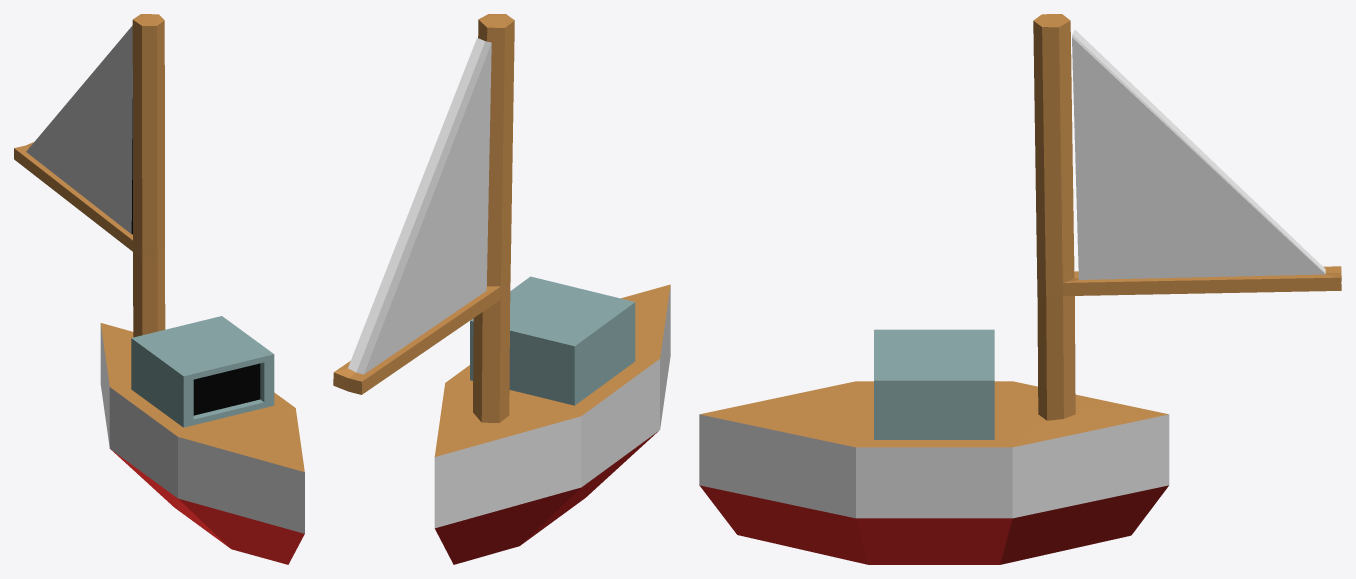
The model's file is Boat Model.fbx.
3 renders of one model, left to right at view 1: azimuth 30°, elevation 25°; view 2: azimuth 150°, elevation 25°; view 3: azimuth 270°, elevation 25°, orthographic. The views are drawn at different scales.
Visible parts, largest first — view 1: Cube; view 2: Cube; view 3: Cube.
Part boxes in pixels (left/top/right/bottom): Cube: left=14, top=14, right=304, bottom=564; Cube: left=333, top=14, right=670, bottom=564; Cube: left=699, top=14, right=1341, bottom=564.
Bounding box in the file's own units: 200 × 765 × 820.
